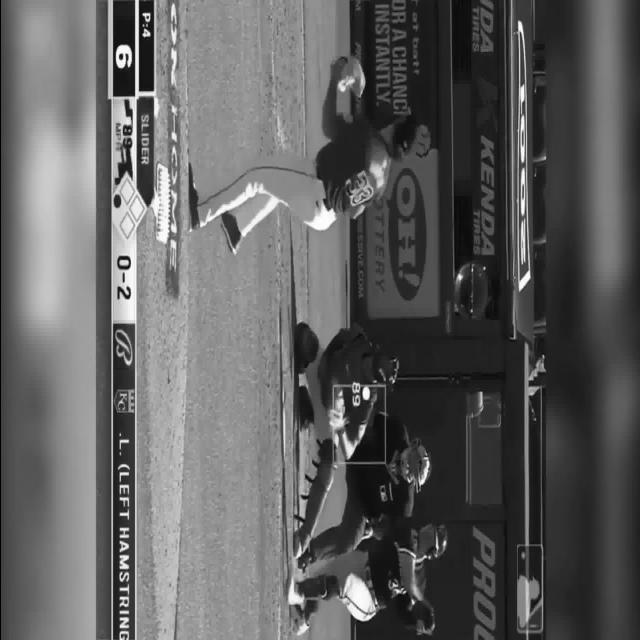baseball_glove: (336, 56, 365, 98), (326, 387, 344, 431)
shoe: (220, 211, 240, 256), (188, 163, 199, 231), (285, 573, 304, 605), (289, 605, 308, 636), (292, 531, 302, 558)
